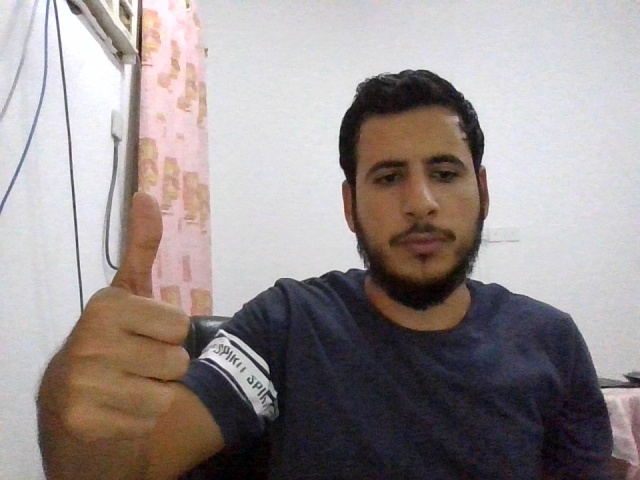One: (46, 191, 191, 442)
